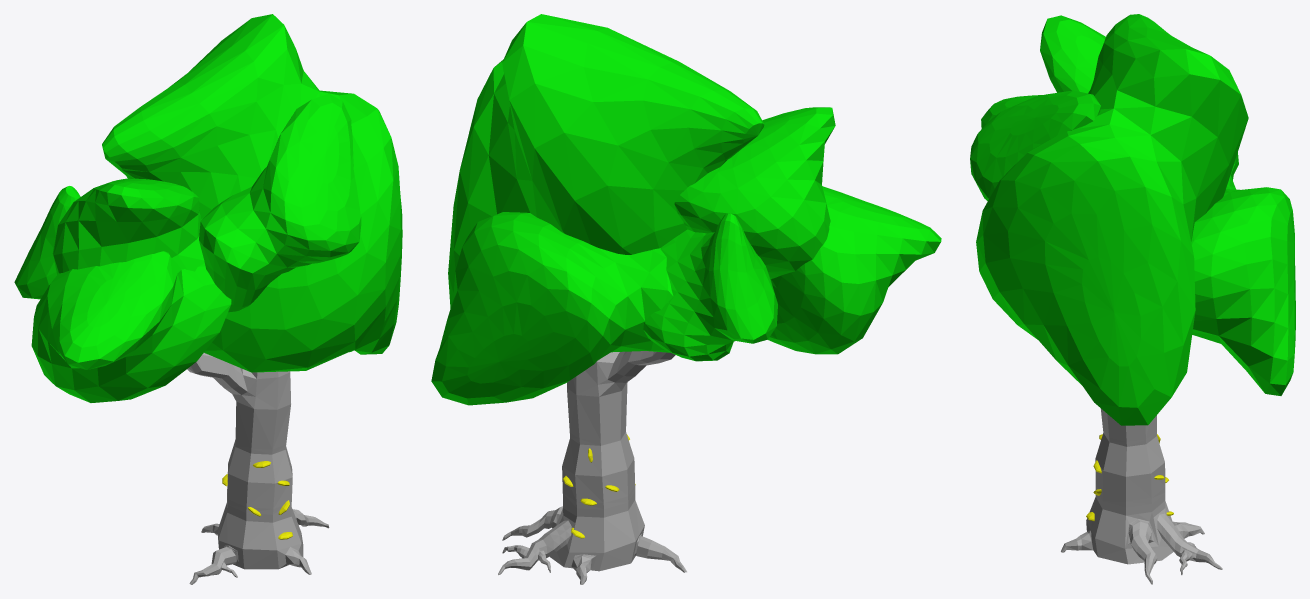
Rendered from 01_treeC_02.fbx.
The picture shows the model from 3 angles, left to right: view 1: azimuth 30°, elevation 25°; view 2: azimuth 150°, elevation 25°; view 3: azimuth 270°, elevation 25°; orthographic projection. The views are drawn at different scales.
Parts seen in each view (by area): view 1: _treeCopaC_01, polySurface109; view 2: _treeCopaC_01, polySurface109; view 3: _treeCopaC_01, polySurface109.
Boxes of the visible parts, x1,y1,x2,y2 form: _treeCopaC_01: [14, 14, 402, 402]; polySurface109: [187, 353, 329, 584]; _treeCopaC_01: [431, 14, 941, 405]; polySurface109: [498, 351, 686, 584]; _treeCopaC_01: [970, 14, 1295, 425]; polySurface109: [1061, 408, 1222, 584].
Size of the model in its own units: 9.69 by 12.38 by 7.
